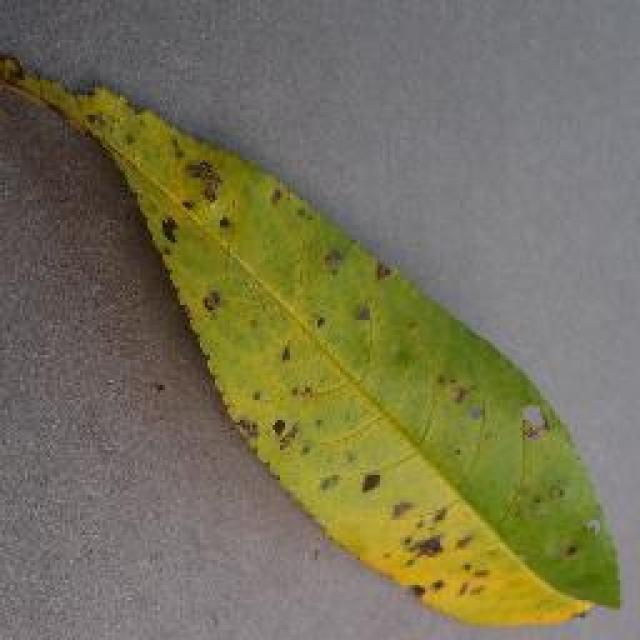Pea_Bacterial_spot: (358, 472, 490, 620), (226, 339, 335, 460), (142, 130, 244, 255), (309, 236, 410, 340)
